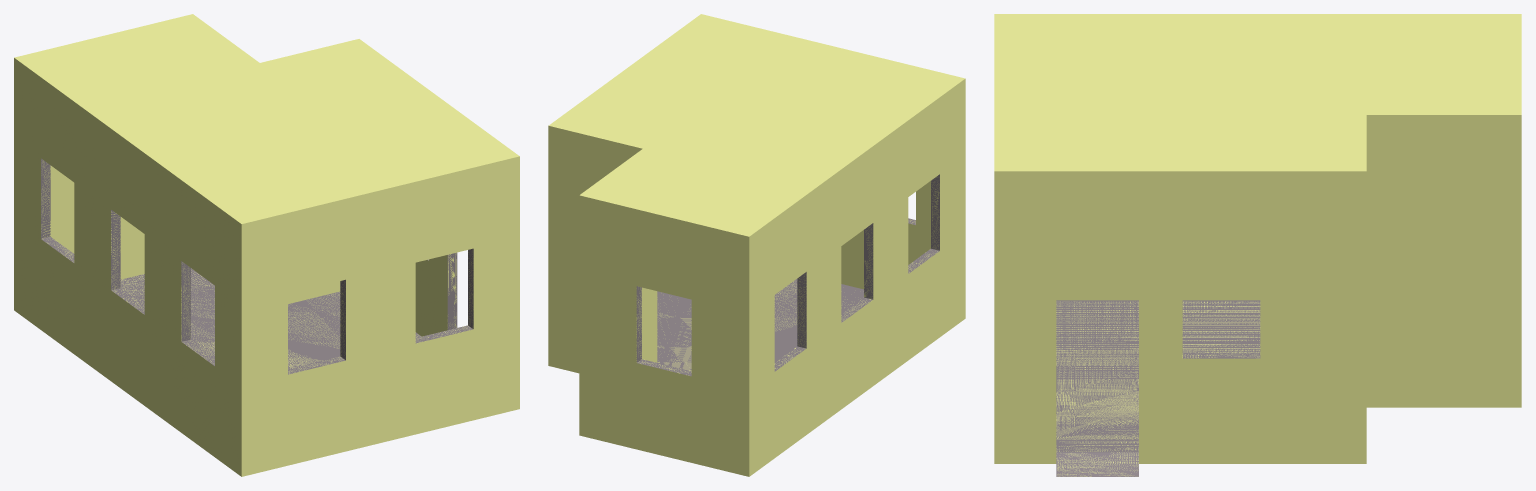
Rendered from smallShack.dae.
3 renders of one model, left to right at view 1: azimuth 30°, elevation 25°; view 2: azimuth 150°, elevation 25°; view 3: azimuth 270°, elevation 25°, orthographic. The views are drawn at different scales.
Visible parts, largest first — view 1: group_0 (×8); view 2: group_0 (×7); view 3: group_0 (×3).
Boxes of the visible parts, x1,y1,x2,y2 form: group_0 (×8): (14, 14, 519, 476); group_0 (×7): (548, 14, 965, 476); group_0 (×3): (994, 14, 1521, 476).
Bounding box in the file's own units: 156 × 204 × 125.
